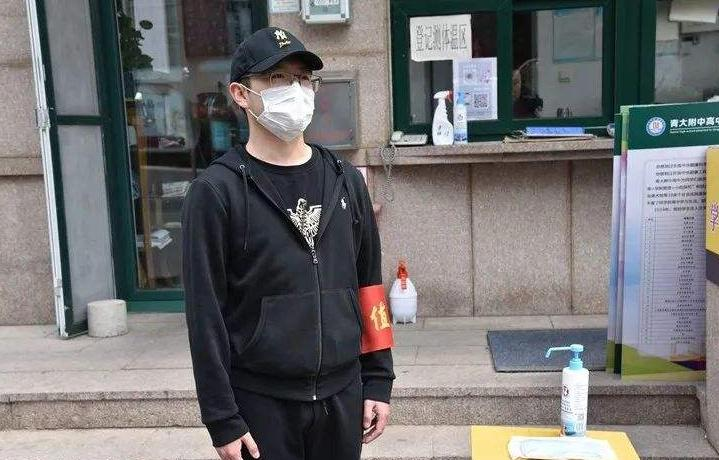OK: (259, 62, 315, 137)
